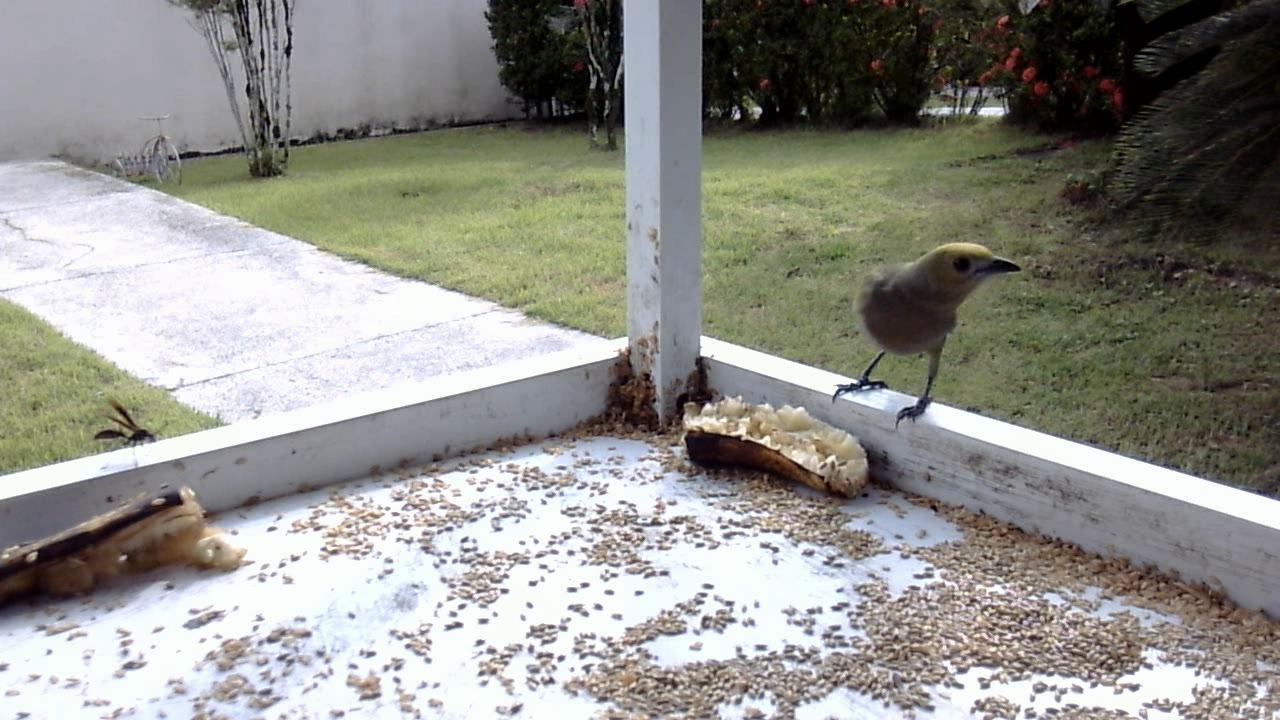sanhaco_do_coqueiro: (824, 233, 1023, 436)
